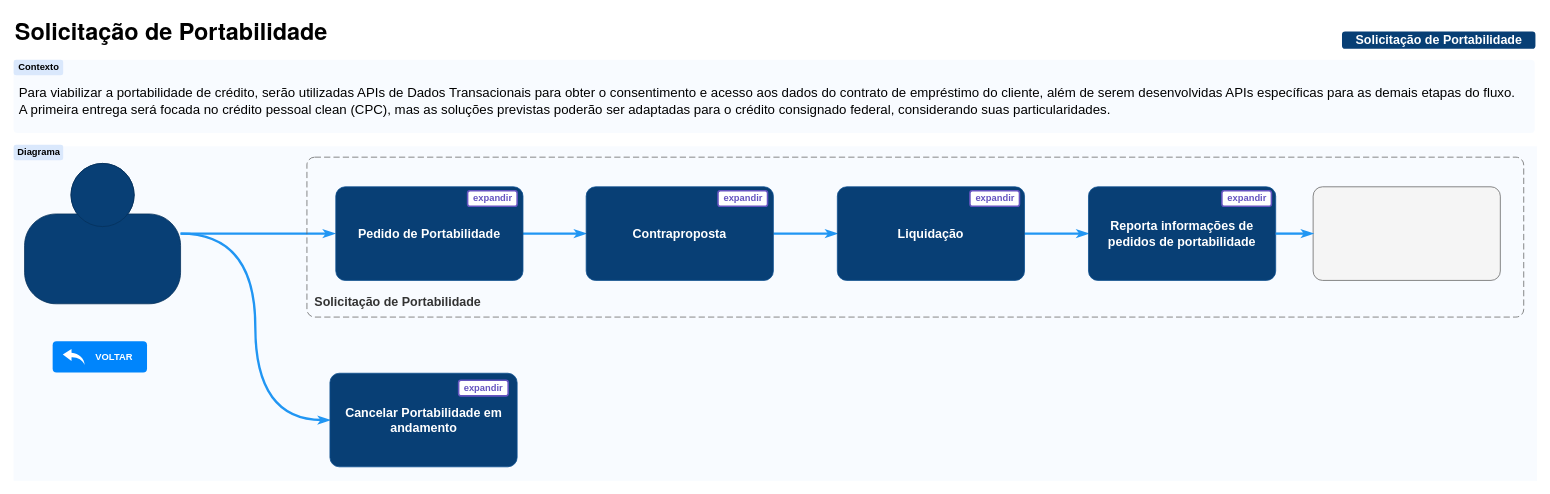
Image size: 1550x494. Some labels were removed from this diagram. Each missing label, with the centre of its shape:
Cliente [Person]: the point at 102,233
Fim da jornada: the point at 1406,233
